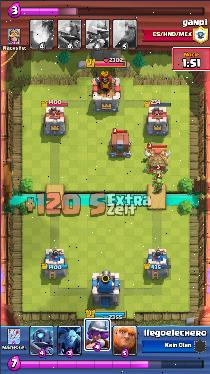EGoblinCage: (110, 128, 130, 157)
EGoblinHut: (147, 145, 170, 171)
EKingTower: (93, 71, 119, 111)
ESpearGoblin: (153, 167, 163, 186), (153, 178, 162, 193)
EnemyPrincessTower: (146, 104, 169, 134), (44, 106, 64, 134)
OwnKingTower: (93, 270, 118, 307)
OwnPrincessTower: (41, 249, 67, 278), (144, 247, 170, 276)
